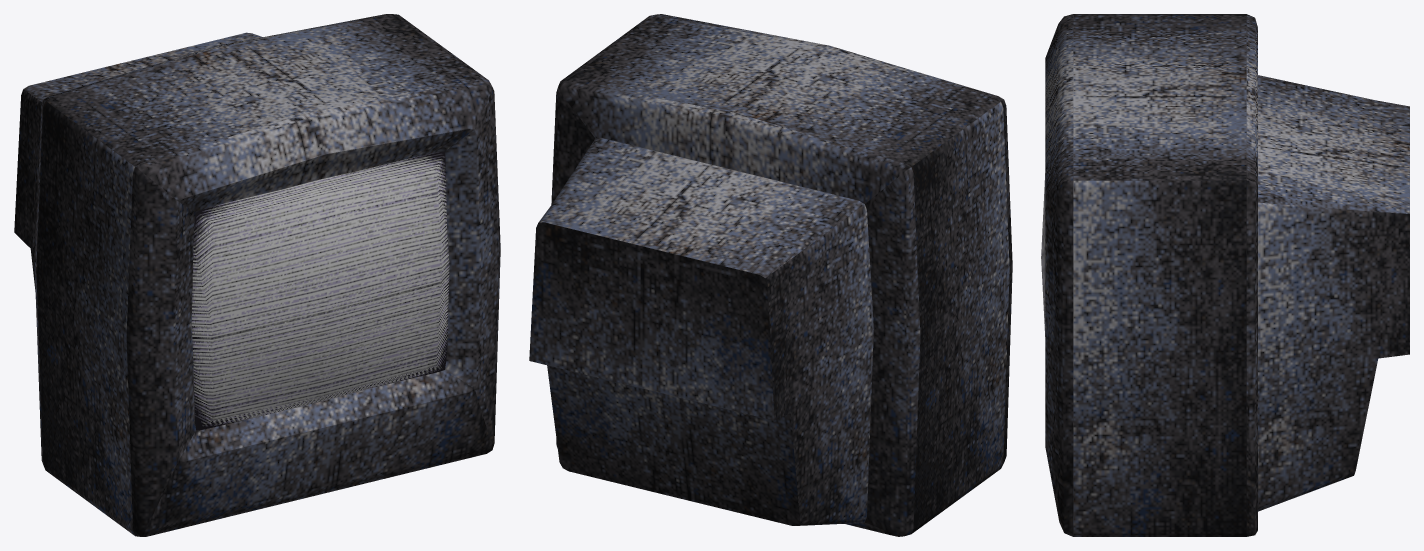
3 renders of one model, left to right at view 1: azimuth 30°, elevation 25°; view 2: azimuth 150°, elevation 25°; view 3: azimuth 270°, elevation 25°, orthographic. The views are drawn at different scales.
Visible parts, largest first — view 1: TV crt; view 2: TV crt; view 3: TV crt.
Boxes of the visible parts, x1,y1,x2,y2 form: TV crt: [14, 14, 500, 536]; TV crt: [529, 14, 1012, 536]; TV crt: [1041, 14, 1409, 536].
Bounding box in the file's own units: 0.5568 × 0.5486 × 0.4962.
